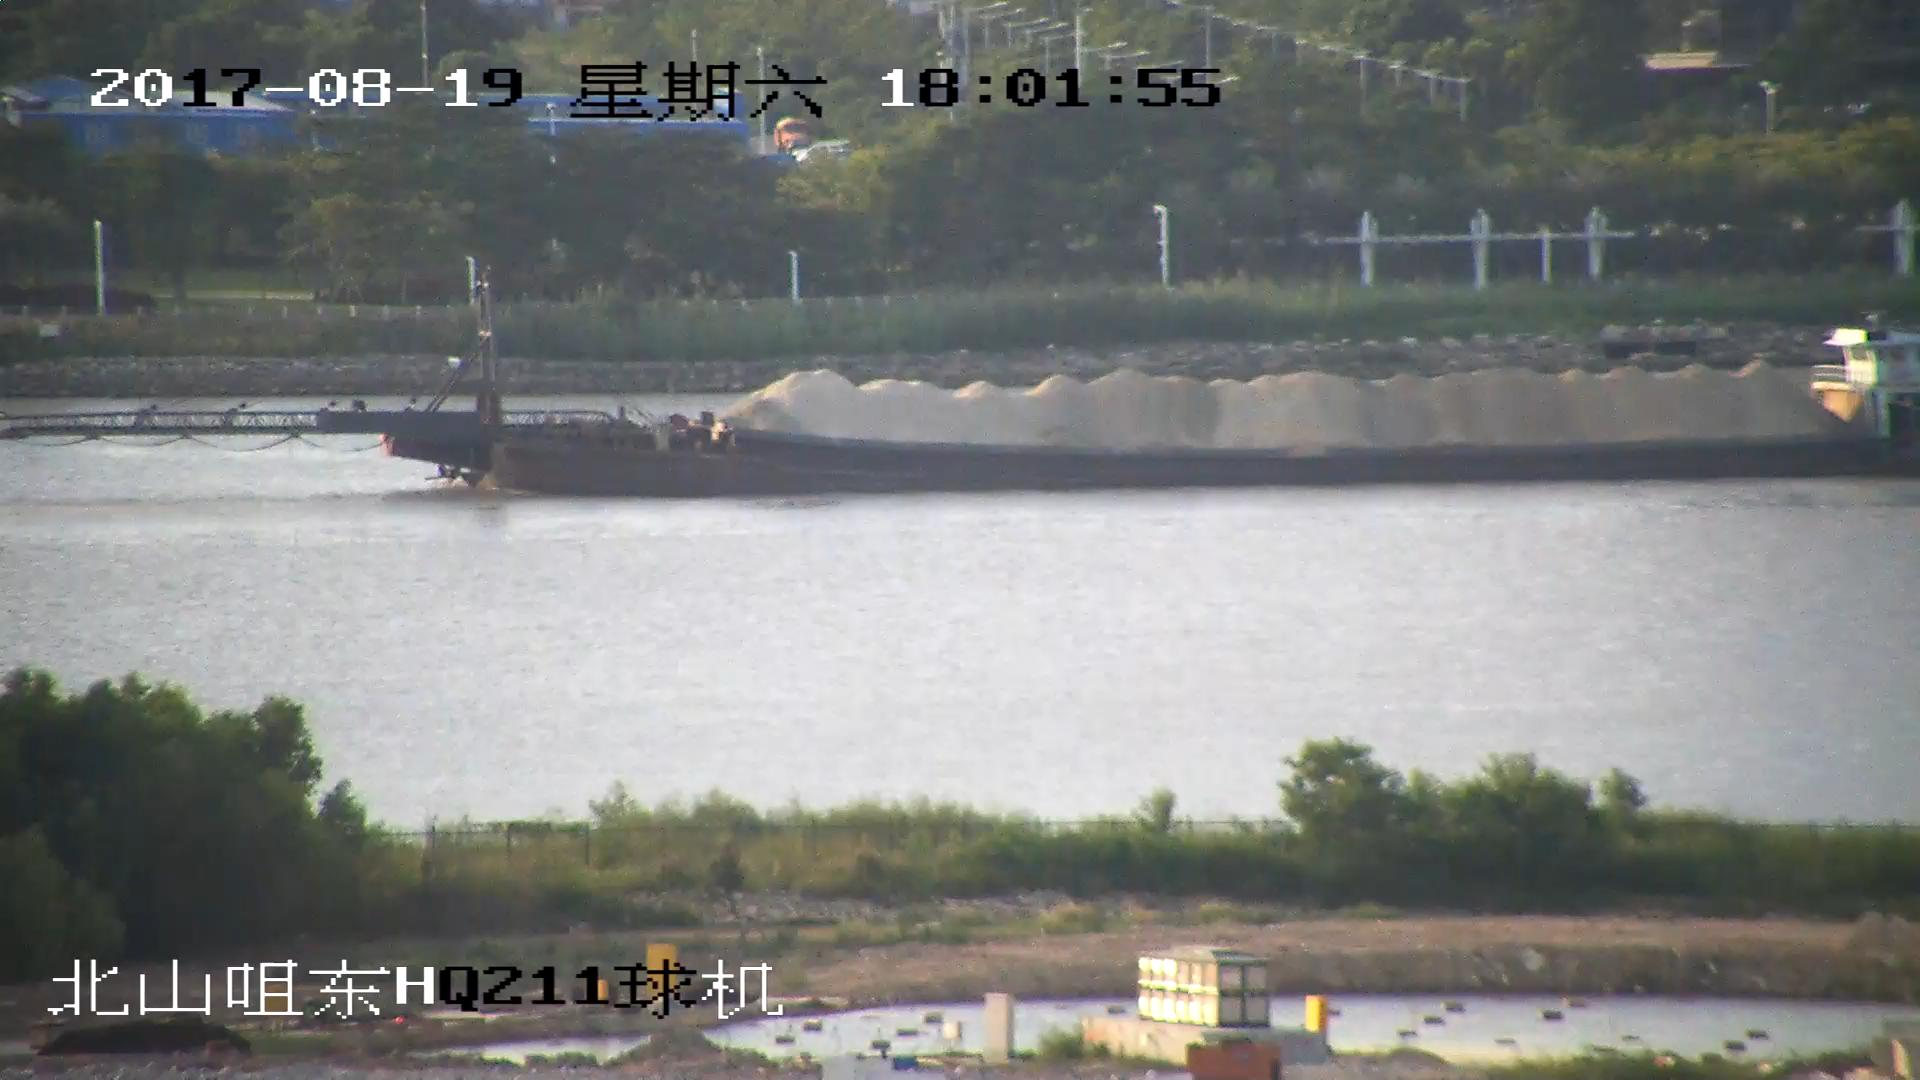ore carrier: (1, 270, 1920, 497)
